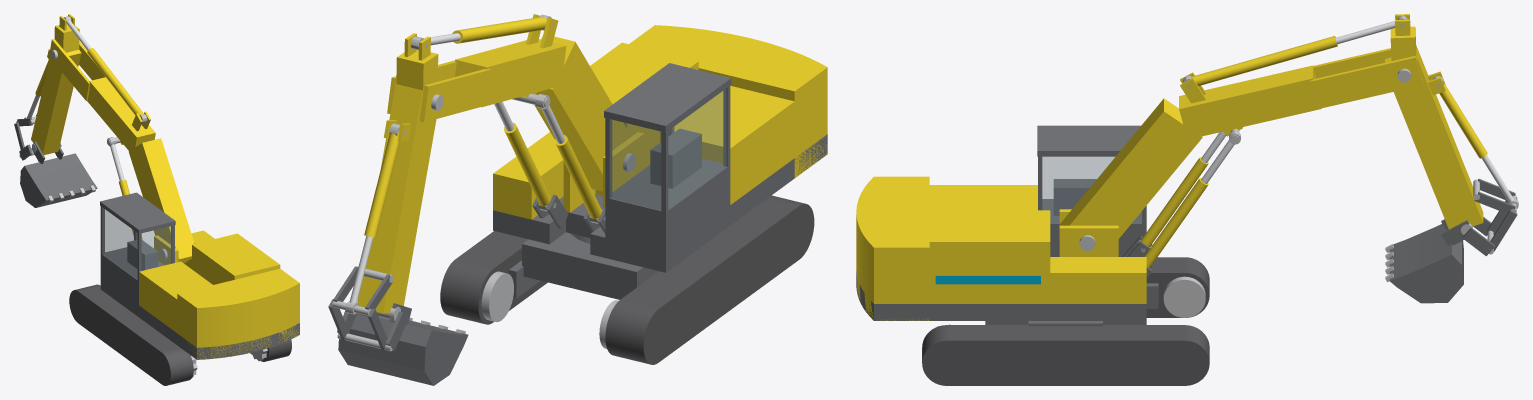
The picture shows the model from 3 angles, left to right: view 1: azimuth 30°, elevation 25°; view 2: azimuth 150°, elevation 25°; view 3: azimuth 270°, elevation 25°; orthographic projection. The views are drawn at different scales.
Parts seen in each view (by area): view 1: Bovenwagen, Giek, EX_SY265E_Rups_L, EX_SY265E_Cabine, Stick, Bak, EX_SY265E_Cabine_Glas, Stickcilinder_Huis, EX_SY265E_Rups_R, Giekcilinder_L_Stang; view 2: Bovenwagen, EX_SY265E_Cabine, EX_SY265E_Rups_L, Giek, Stick, EX_SY265E_Cabine_Glas, Bak, EX_SY265E_Onderwagen, EX_SY265E_Rups_R, Bakcilinder_Huis, Leiwiel_R, Stickcilinder_Huis (+6 smaller); view 3: Bovenwagen, Giek, EX_SY265E_Rups_R, Stick, Bak, EX_SY265E_Cabine, EX_SY265E_Cabine_Glas, EX_SY265E_Rups_L, Stickcilinder_Huis, Leiwiel_L, Giekcilinder_L_Huis, Giekcilinder_R_Huis (+4 smaller).
Part boxes in pixels (box(x1,y1,x2,y2)): Bovenwagen: box(100, 230, 299, 359); Giek: box(49, 39, 194, 263); EX_SY265E_Rups_L: box(69, 284, 193, 385); EX_SY265E_Cabine: box(100, 192, 175, 304); Stick: box(31, 14, 81, 154); Bak: box(19, 141, 97, 207); EX_SY265E_Cabine_Glas: box(103, 208, 171, 279); Stickcilinder_Huis: box(87, 48, 147, 123); EX_SY265E_Rups_R: box(250, 339, 291, 361); Giekcilinder_L_Stang: box(107, 137, 124, 180); Bovenwagen: box(493, 25, 827, 272); EX_SY265E_Cabine: box(604, 63, 731, 252); EX_SY265E_Rups_L: box(605, 195, 814, 364); Giek: box(387, 14, 636, 191); Stick: box(357, 33, 443, 313); EX_SY265E_Cabine_Glas: box(610, 89, 726, 210); Bak: box(337, 303, 468, 385); EX_SY265E_Onderwagen: box(522, 232, 658, 299); EX_SY265E_Rups_R: box(440, 231, 547, 324); Bakcilinder_Huis: box(364, 123, 400, 237); Leiwiel_R: box(481, 271, 513, 321); Stickcilinder_Huis: box(452, 14, 551, 43); Bovenwagen: box(856, 176, 1152, 320); Giek: box(1059, 45, 1423, 251); EX_SY265E_Rups_R: box(922, 325, 1209, 385); Stick: box(1385, 14, 1483, 229); Bak: box(1385, 217, 1494, 303); EX_SY265E_Cabine: box(1037, 125, 1146, 256); EX_SY265E_Cabine_Glas: box(1042, 157, 1141, 223); EX_SY265E_Rups_L: box(1146, 257, 1209, 317); Stickcilinder_Huis: box(1182, 36, 1337, 86); Leiwiel_L: box(1163, 276, 1205, 317); Giekcilinder_L_Huis: box(1137, 157, 1208, 247); Giekcilinder_R_Huis: box(1144, 178, 1208, 268).
Size of the model in its own units: 3.19 by 5.89 by 10.68.
